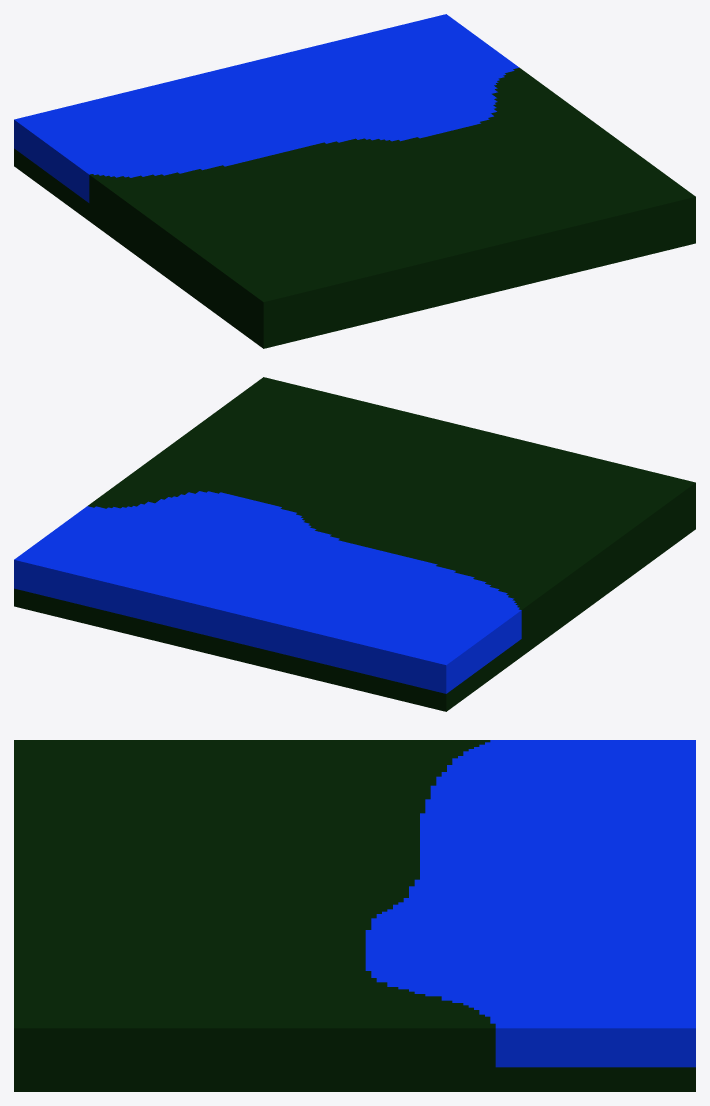
Rendered from map-73.obj.
The picture shows the model from 3 angles, top to bottom: view 1: azimuth 30°, elevation 25°; view 2: azimuth 150°, elevation 25°; view 3: azimuth 270°, elevation 25°; orthographic projection. The views are drawn at different scales.
Visible parts, largest first — view 1: map-73; view 2: map-73; view 3: map-73.
Part boxes in pixels (x1,y1,x2,y2): map-73: [14, 14, 695, 348]; map-73: [14, 377, 695, 711]; map-73: [14, 740, 695, 1091].
Size of the model in its own units: 126 by 13 by 126.
1 material, 1 textured.
